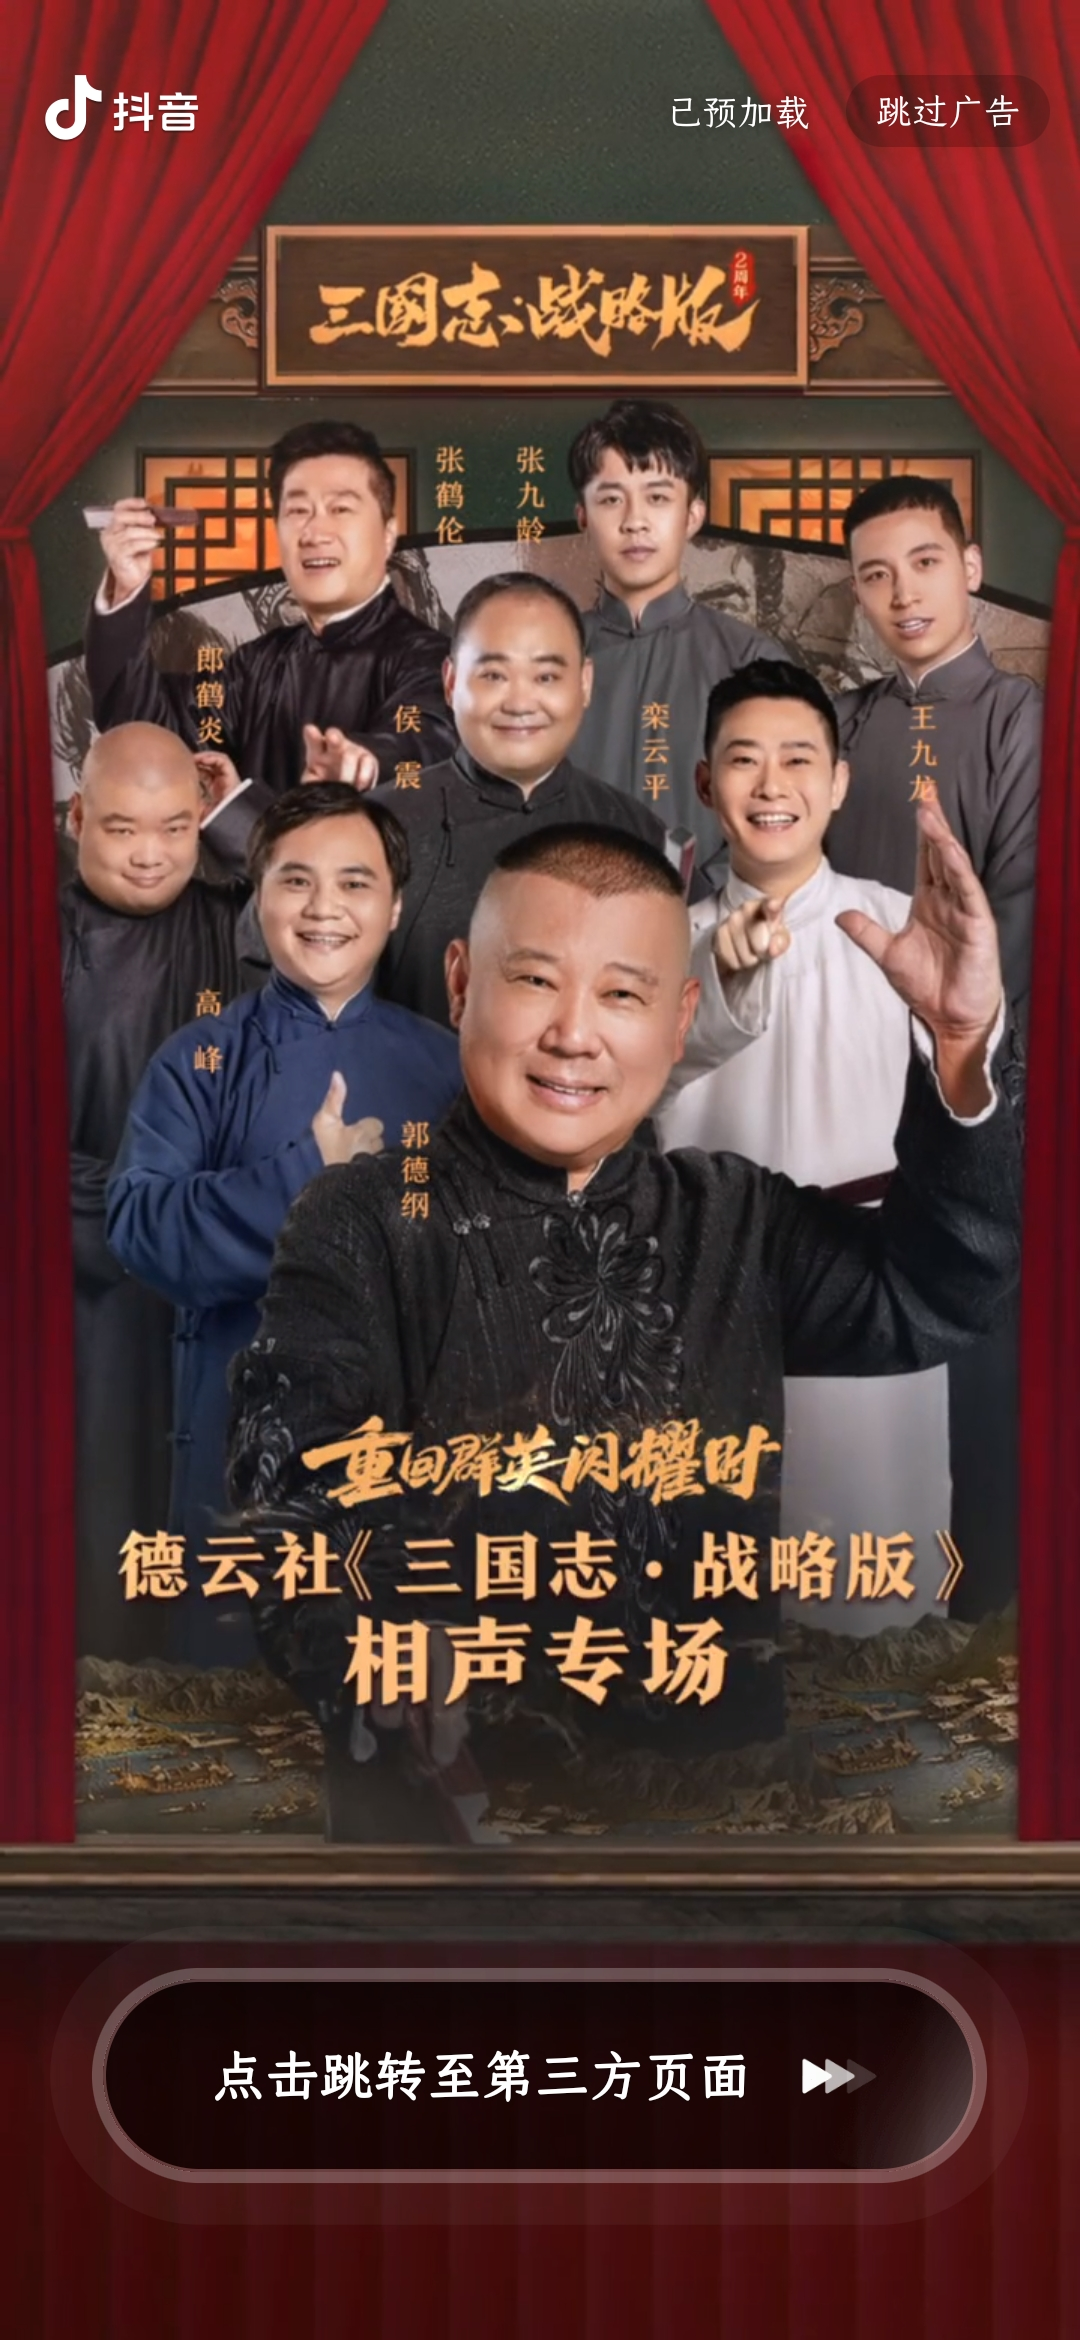skip: (862, 76, 1046, 140)
